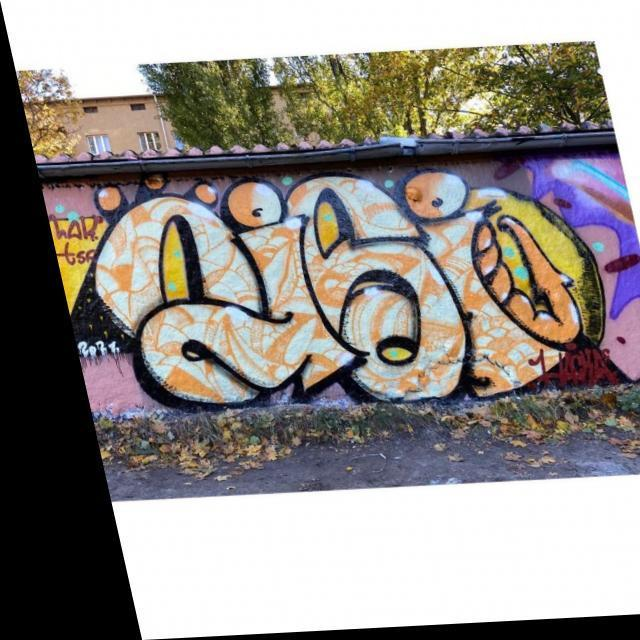-: (77, 178, 578, 408), (501, 342, 604, 402), (34, 196, 102, 276)
